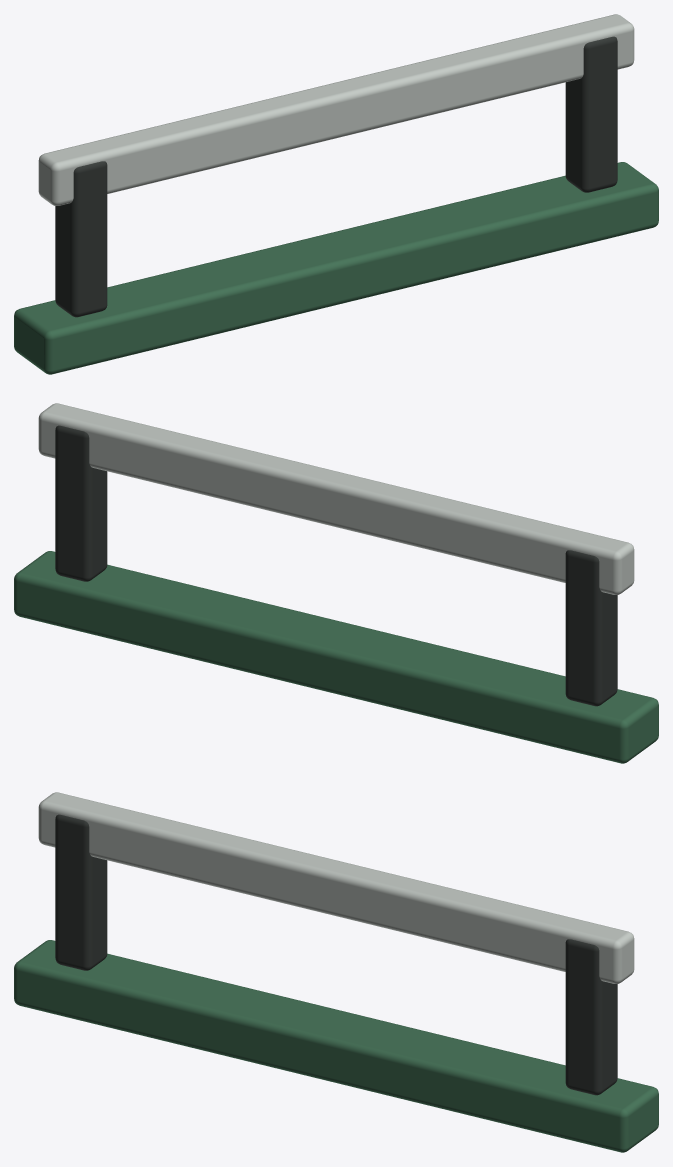
File: sawmill-and-timber-yard-roller-end-bumper-4aa4be5e__31174.glb
3 renders of one model, top to bottom at view 1: azimuth 30°, elevation 25°; view 2: azimuth 150°, elevation 25°; view 3: azimuth 330°, elevation 25°, orthographic.
Parts seen in each view (by area): view 1: roller-end-bumper; view 2: roller-end-bumper; view 3: roller-end-bumper.
Boxes of the visible parts, x1,y1,x2,y2 form: roller-end-bumper: (14, 14, 658, 374); roller-end-bumper: (14, 403, 658, 763); roller-end-bumper: (14, 792, 658, 1152).
Size of the model in its own units: 1.18 by 0.37 by 0.12.
